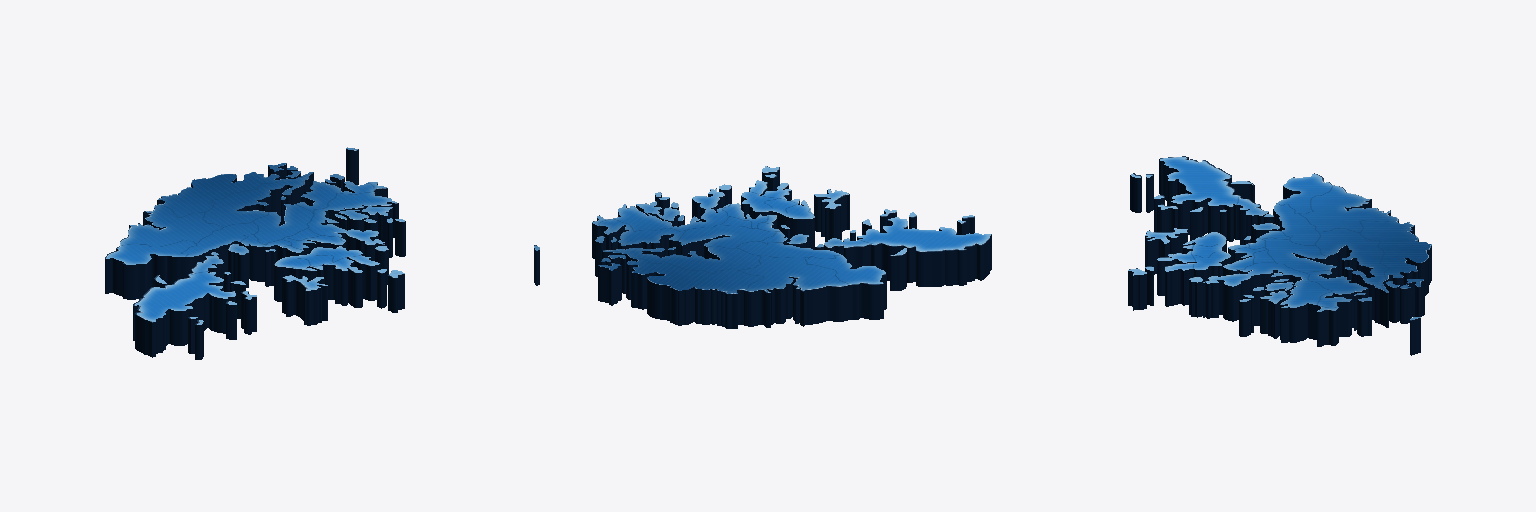
The picture shows the model from 3 angles: view 1: azimuth 30°, elevation 25°; view 2: azimuth 150°, elevation 25°; view 3: azimuth 270°, elevation 25°; orthographic projection.
Visible parts, largest first — view 1: Shape002, Shape1; view 2: Shape1, Shape002; view 3: Shape1, Shape002.
Part boxes in pixels (left/top/right/bottom): Shape002: left=105, top=147, right=404, bottom=324; Shape1: left=105, top=149, right=405, bottom=359; Shape1: left=534, top=170, right=991, bottom=328; Shape002: left=534, top=166, right=991, bottom=293; Shape1: left=1128, top=158, right=1431, bottom=355; Shape002: left=1128, top=156, right=1431, bottom=320.
Size of the model in its own units: 117 by 11.59 by 91.36.
Materials: 2 (2 with a texture image).